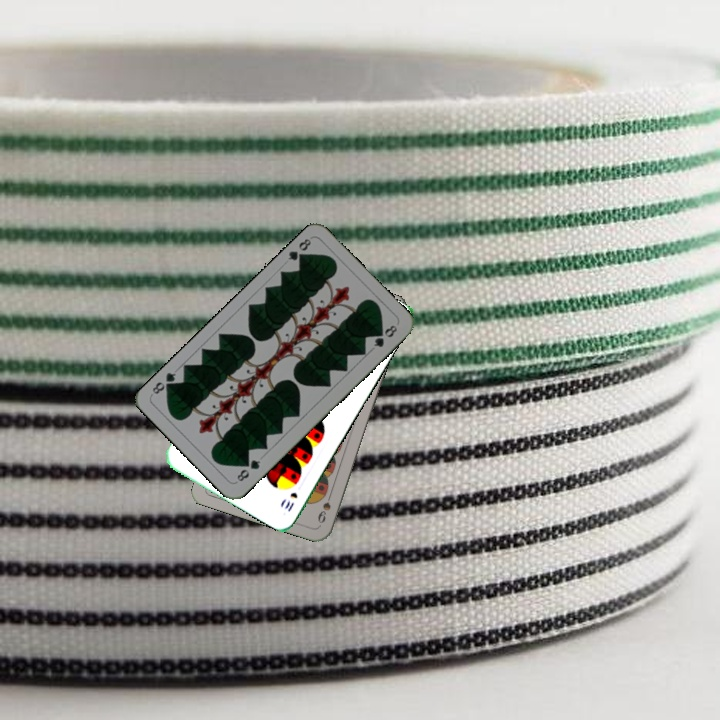G8: (284, 234, 314, 266), (233, 455, 263, 484)
S10: (280, 488, 300, 514)
S9: (314, 487, 335, 526)
